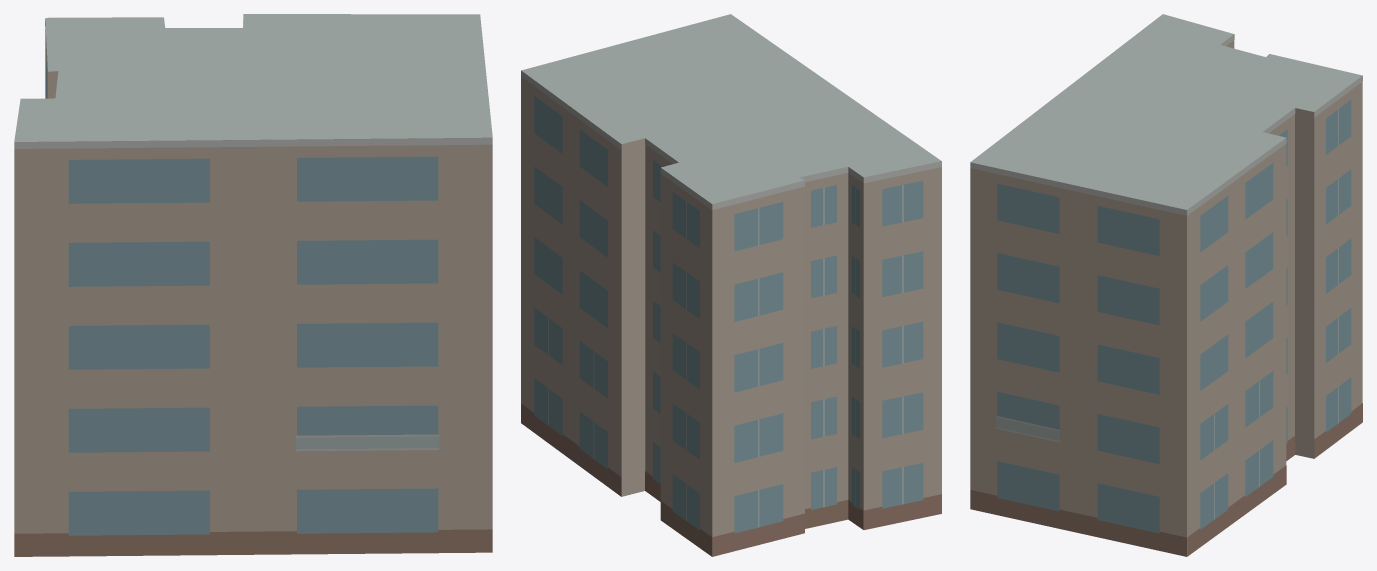
File: survey-upis-32847826.glb
The picture shows the model from 3 angles, left to right: view 1: azimuth 30°, elevation 25°; view 2: azimuth 150°, elevation 25°; view 3: azimuth 270°, elevation 25°; orthographic projection. The views are drawn at different scales.
Parts seen in each view (by area): view 1: survey-upis-32847826.tmp; view 2: survey-upis-32847826.tmp; view 3: survey-upis-32847826.tmp.
Boxes of the visible parts, x1=… form: survey-upis-32847826.tmp: x1=14, y1=14, x2=492, y2=556; survey-upis-32847826.tmp: x1=521, y1=14, x2=941, y2=556; survey-upis-32847826.tmp: x1=970, y1=14, x2=1362, y2=556.
Size of the model in its own units: 17.52 by 14.45 by 14.83.
